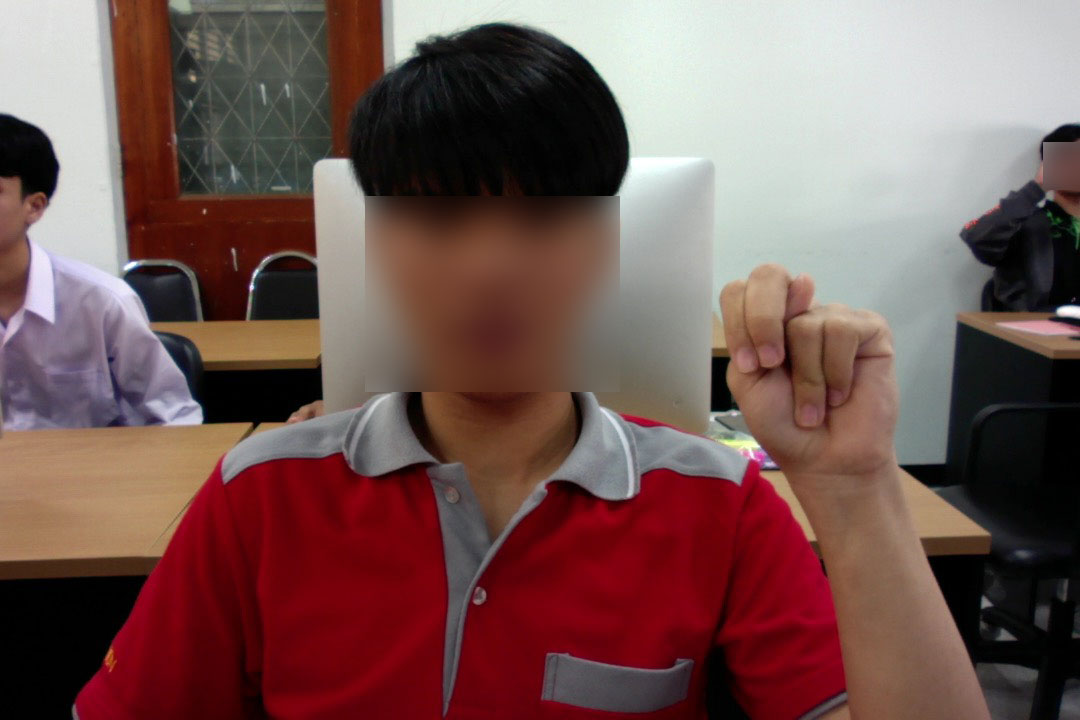nor: (710, 257, 906, 500)
